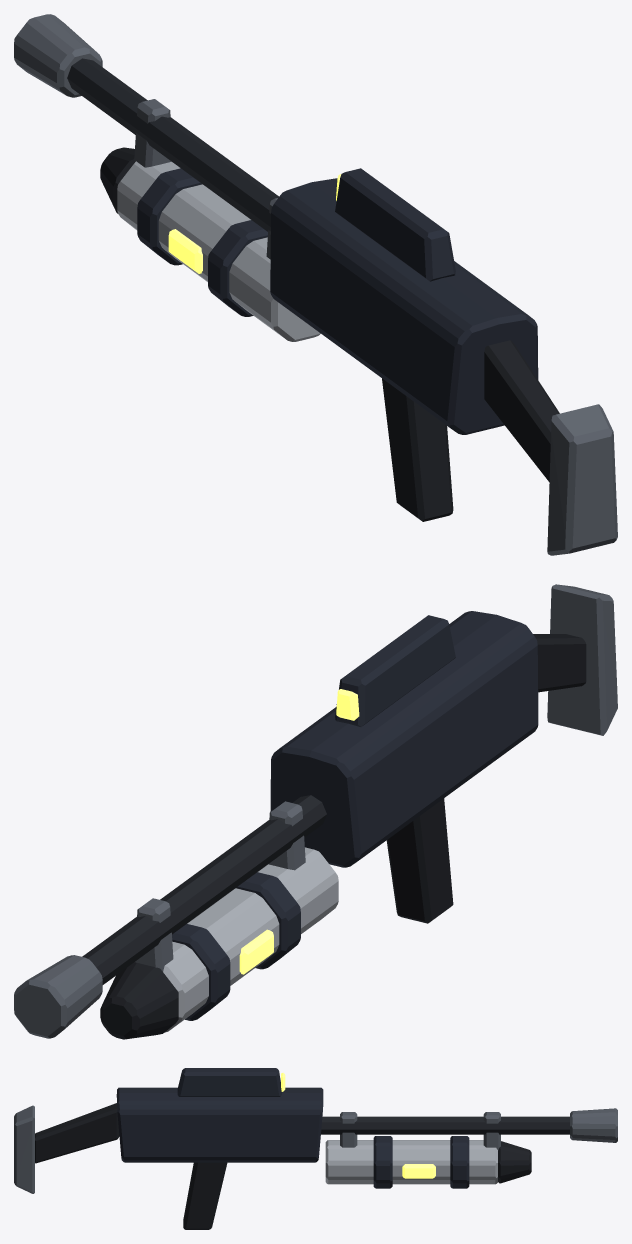
File: w_a_land_charge_rifle.glb
The picture shows the model from 3 angles, top to bottom: view 1: azimuth 30°, elevation 25°; view 2: azimuth 150°, elevation 25°; view 3: azimuth 270°, elevation 25°; orthographic projection. The views are drawn at different scales.
Parts seen in each view (by area): view 1: weapon_body, weapon_metal, weapon; view 2: weapon_body, weapon_metal, weapon; view 3: weapon_body, weapon_metal, weapon.
Boxes of the visible parts, x1=… form: weapon_body: x1=14, y1=14, x2=617, y2=555; weapon_metal: x1=67, y1=58, x2=278, y2=231; weapon: x1=168, y1=174, x2=341, y2=273; weapon_body: x1=14, y1=584, x2=617, y2=1039; weapon_metal: x1=82, y1=795, x2=326, y2=984; weapon: x1=239, y1=689, x2=359, y2=974; weapon_body: x1=14, y1=1068, x2=617, y2=1229; weapon_metal: x1=321, y1=1116, x2=569, y2=1134; weapon: x1=281, y1=1072, x2=435, y2=1178.
Bounding box in the file's own units: 0.7459 × 2.25 × 7.88.
